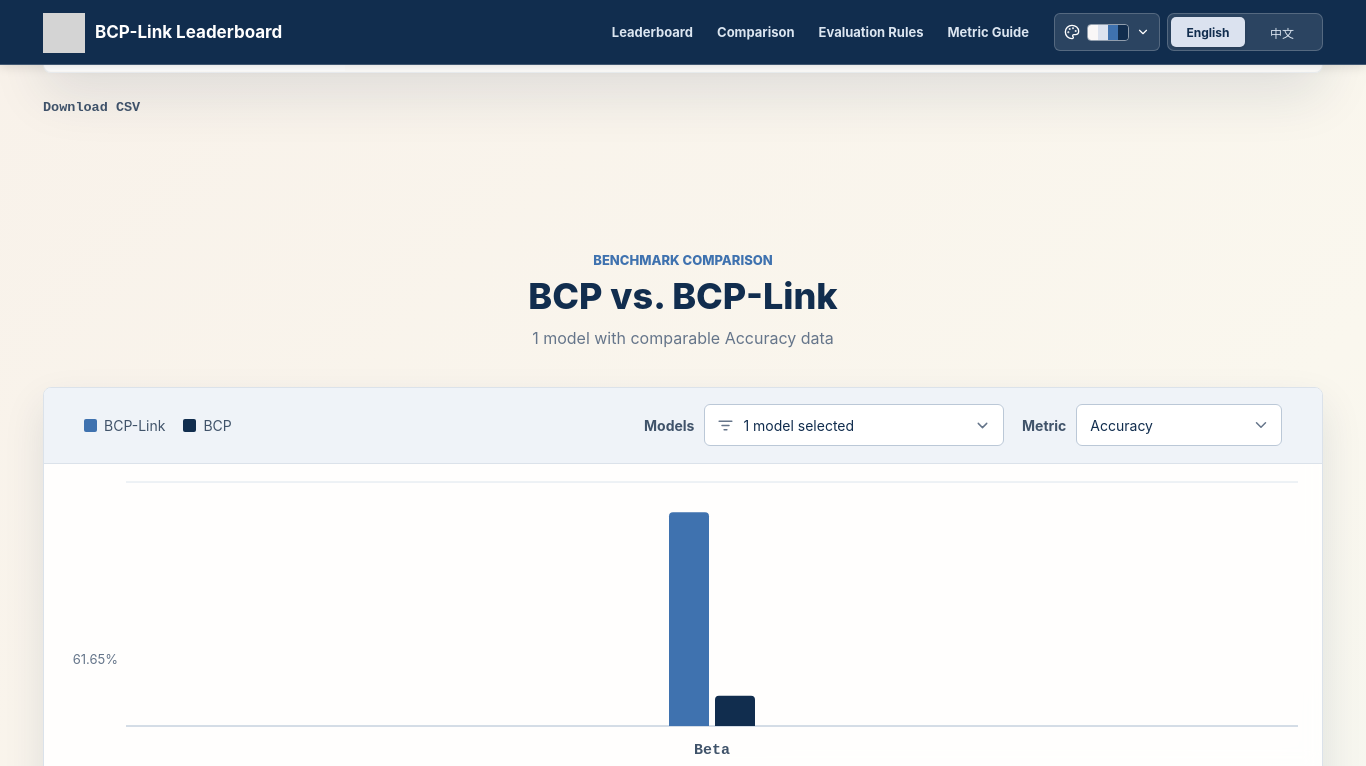
Test: LeaderboardApp › switches comparison metrics and shows an empty state
(page scrolled)
Select "Recall" in the dropdown named "Comparison metric" at {"x": 1179, "y": 425}, box x1=1076 y1=404 x2=1282 y2=446
(page scrolled)
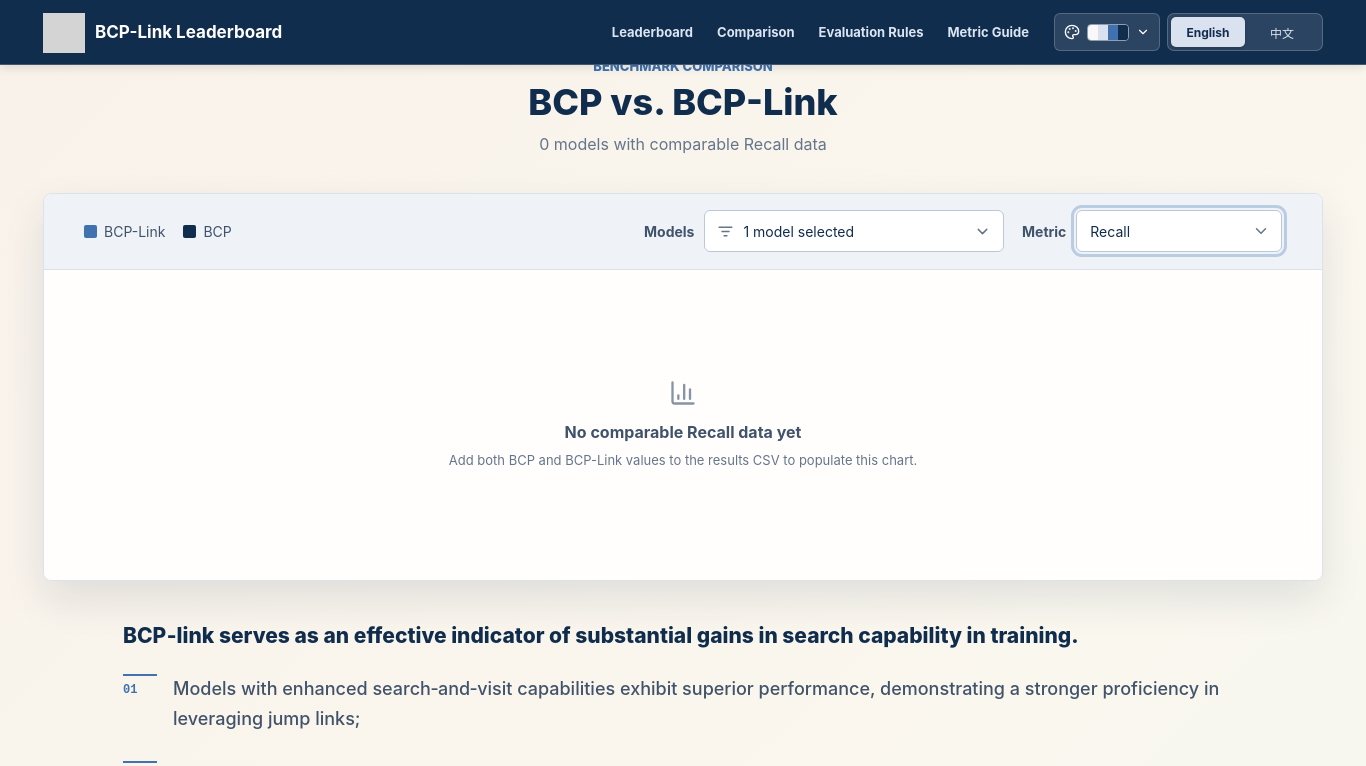
Check: the message shows "No comparable Recall data yet", box x1=565 y1=422 x2=801 y2=442
